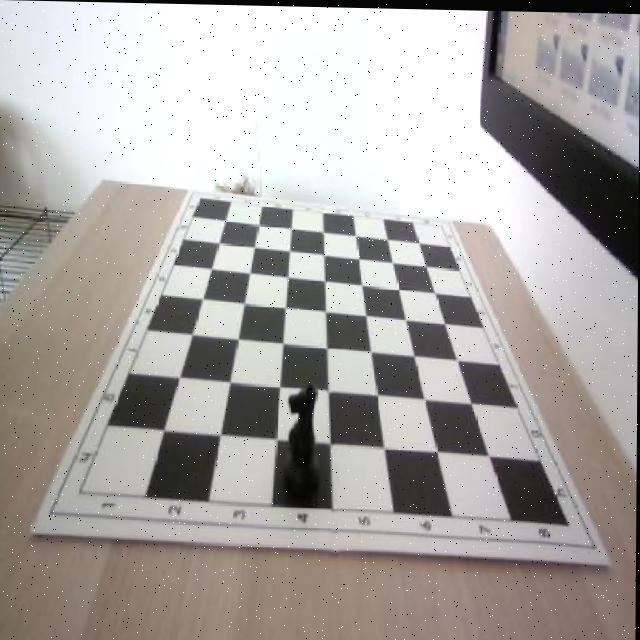black-king: (282, 379, 322, 504)
